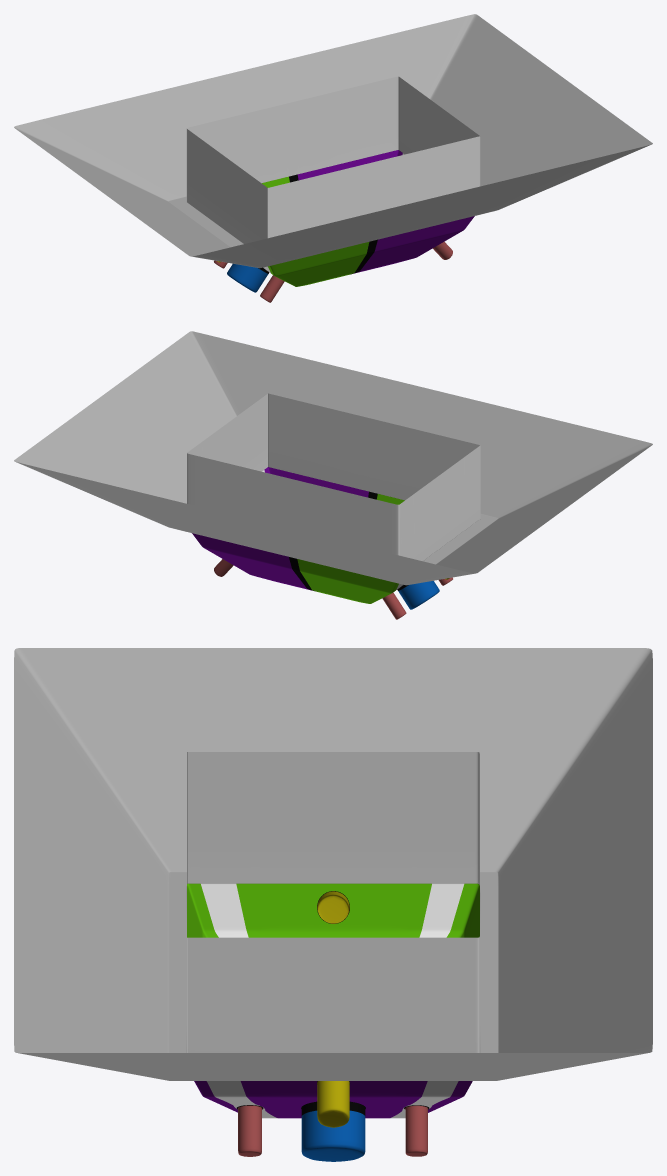
Rendered from Stage_With_Teams_Color.fbx.
The picture shows the model from 3 angles, top to bottom: view 1: azimuth 30°, elevation 25°; view 2: azimuth 150°, elevation 25°; view 3: azimuth 270°, elevation 25°; orthographic projection. The views are drawn at different scales.
Visible parts, largest first — view 1: pPlane1; view 2: pPlane1; view 3: pPlane1.
Boxes of the visible parts, x1,y1,x2,y2 form: pPlane1: [14, 14, 652, 302]; pPlane1: [14, 331, 652, 619]; pPlane1: [14, 648, 652, 1161].
Bounding box in the file's own units: 250 × 71.34 × 166.
